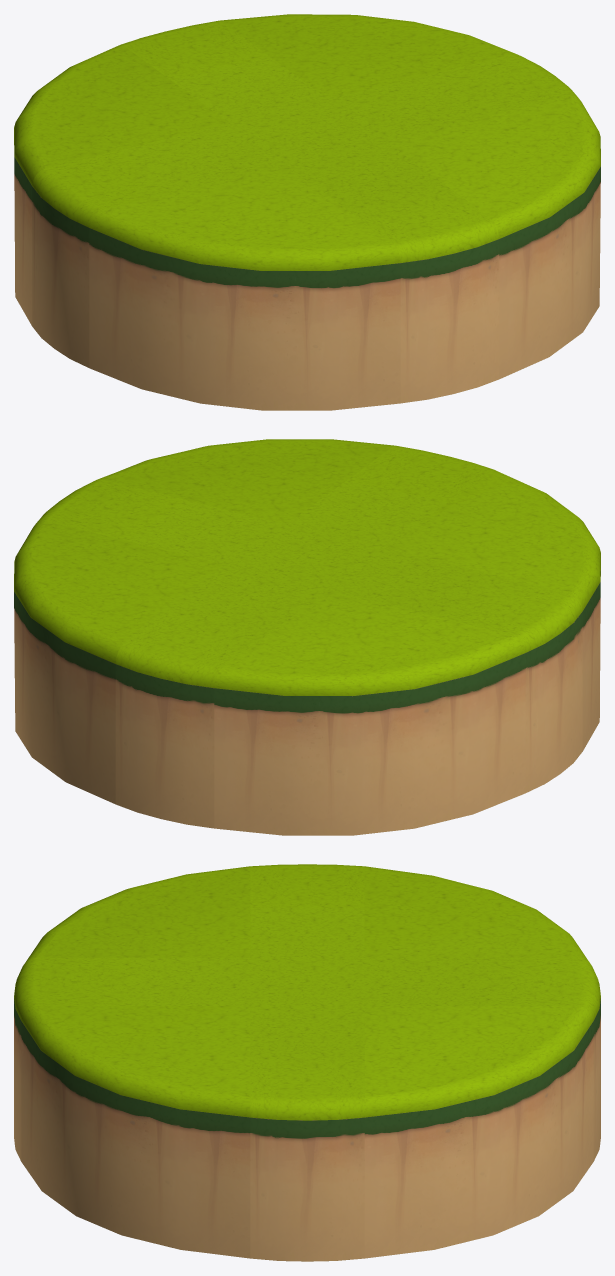
Rendered from TM_natural.fbx.
3 renders of one model, top to bottom at view 1: azimuth 30°, elevation 25°; view 2: azimuth 150°, elevation 25°; view 3: azimuth 270°, elevation 25°, orthographic.
Visible parts, largest first — view 1: TM_Grass_Corner05.065, TM_Grass_Corner05.001, TM_Grass_BasicCube01.280, TM_Grass_Corner05.003, TM_Grass_BasicCube01.289, TM_Grass_Corner05.002, TM_Grass_BasicCube01.288, TM_Grass_BasicCube01.285, TM_Grass_BasicCube01.286, TM_Grass_BasicCube01.279, TM_Grass_BasicCube01.290, TM_Grass_BasicCube01.284 (+1 smaller); view 2: TM_Grass_Corner05.003, TM_Grass_Corner05.002, TM_Grass_BasicCube01.287, TM_Grass_Corner05.065, TM_Grass_BasicCube01.289, TM_Grass_Corner05.001, TM_Grass_BasicCube01.285, TM_Grass_BasicCube01.288, TM_Grass_BasicCube01.279, TM_Grass_BasicCube01.290, TM_Grass_BasicCube01.286, TM_Grass_BasicCube01.284 (+1 smaller); view 3: TM_Grass_Corner05.001, TM_Grass_Corner05.002, TM_Grass_BasicCube01.284, TM_Grass_Corner05.065, TM_Grass_Corner05.003, TM_Grass_BasicCube01.280, TM_Grass_BasicCube01.287, TM_Grass_BasicCube01.279, TM_Grass_BasicCube01.288, TM_Grass_BasicCube01.285, TM_Grass_BasicCube01.286, TM_Grass_BasicCube01.290 (+1 smaller).
Boxes of the visible parts, x1,y1,x2,y2 form: TM_Grass_Corner05.065: (89, 165, 400, 410); TM_Grass_Corner05.001: (386, 96, 600, 379); TM_Grass_BasicCube01.280: (344, 183, 499, 403); TM_Grass_Corner05.003: (14, 44, 228, 325); TM_Grass_BasicCube01.289: (32, 147, 187, 367); TM_Grass_Corner05.002: (220, 14, 516, 99); TM_Grass_BasicCube01.288: (173, 57, 327, 123); TM_Grass_BasicCube01.285: (230, 99, 384, 164); TM_Grass_BasicCube01.286: (329, 75, 483, 140); TM_Grass_BasicCube01.279: (287, 141, 441, 206); TM_Grass_BasicCube01.290: (131, 123, 285, 188); TM_Grass_BasicCube01.284: (427, 54, 578, 116); TM_Grass_Corner05.003: (214, 590, 525, 835); TM_Grass_Corner05.002: (14, 521, 229, 804); TM_Grass_BasicCube01.287: (115, 608, 270, 828); TM_Grass_Corner05.065: (385, 469, 600, 751); TM_Grass_BasicCube01.289: (427, 572, 582, 792); TM_Grass_Corner05.001: (98, 439, 394, 524); TM_Grass_BasicCube01.285: (230, 524, 384, 589); TM_Grass_BasicCube01.288: (173, 566, 327, 631); TM_Grass_BasicCube01.279: (287, 482, 441, 548); TM_Grass_BasicCube01.290: (328, 548, 483, 613); TM_Grass_BasicCube01.286: (131, 500, 285, 565); TM_Grass_BasicCube01.284: (37, 479, 187, 541); TM_Grass_Corner05.001: (21, 1006, 250, 1258); TM_Grass_Corner05.002: (364, 1006, 593, 1258); TM_Grass_BasicCube01.284: (250, 1054, 364, 1261); TM_Grass_Corner05.065: (25, 866, 250, 962); TM_Grass_Corner05.003: (364, 866, 590, 963); TM_Grass_BasicCube01.280: (14, 957, 135, 1161); TM_Grass_BasicCube01.287: (479, 957, 600, 1161); TM_Grass_BasicCube01.279: (135, 957, 250, 1005); TM_Grass_BasicCube01.288: (364, 957, 479, 1005); TM_Grass_BasicCube01.285: (250, 957, 364, 1005); TM_Grass_BasicCube01.286: (250, 1006, 364, 1054); TM_Grass_BasicCube01.290: (250, 909, 364, 957).
Bounding box in the file's own units: 20.51 × 6 × 20.51.
